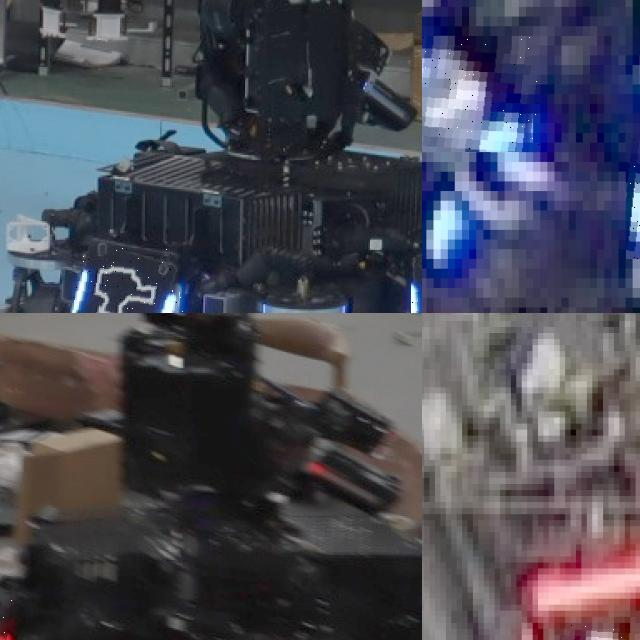B1: (422, 35, 540, 152), (422, 133, 483, 269)
Bs: (71, 246, 183, 313)
